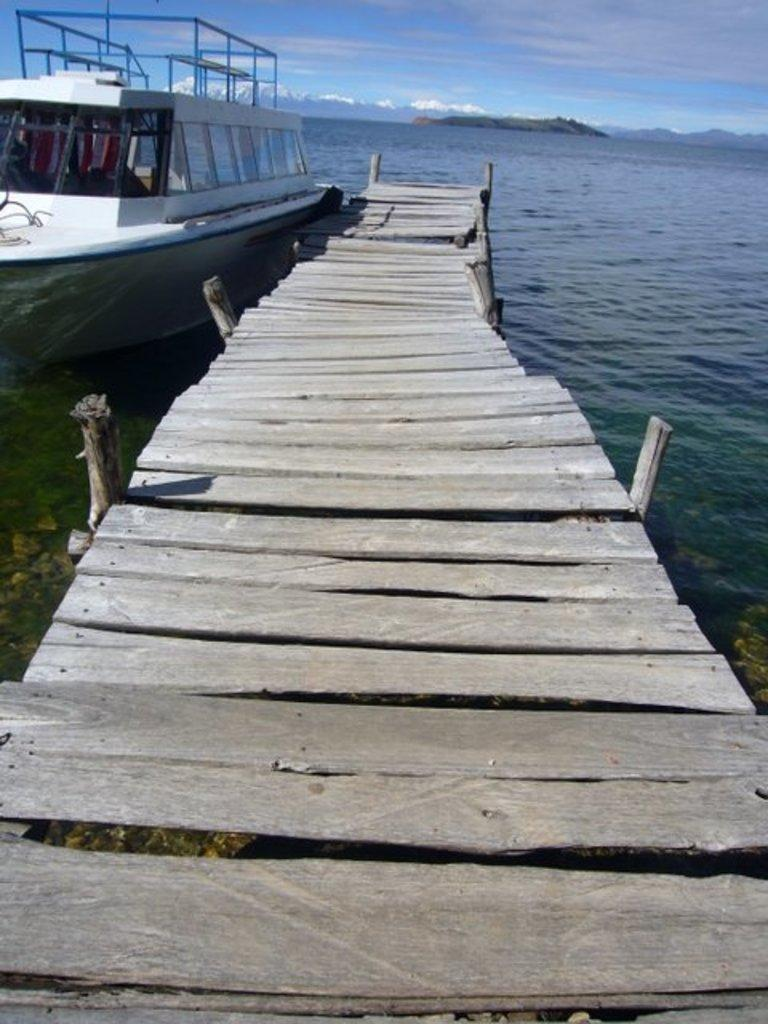PassengerShip: (2, 44, 382, 342)
